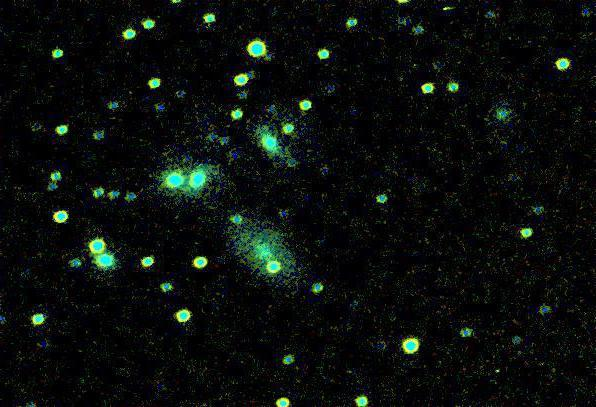star: (252, 114, 282, 144)
